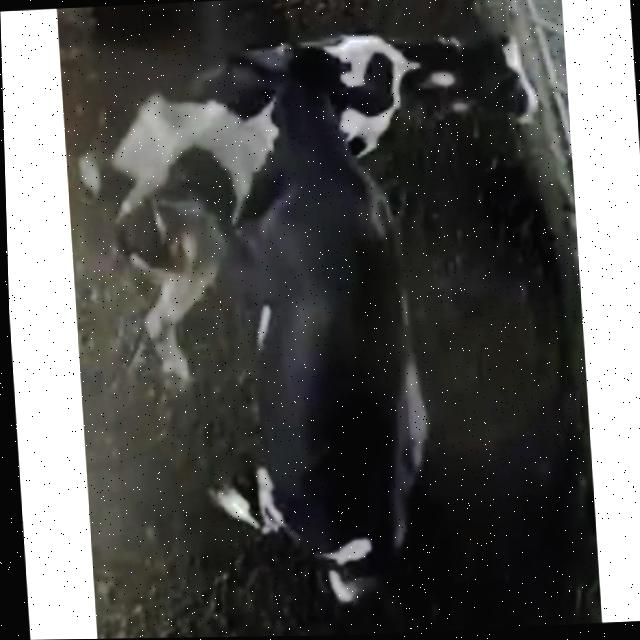propping: (213, 36, 404, 222)
